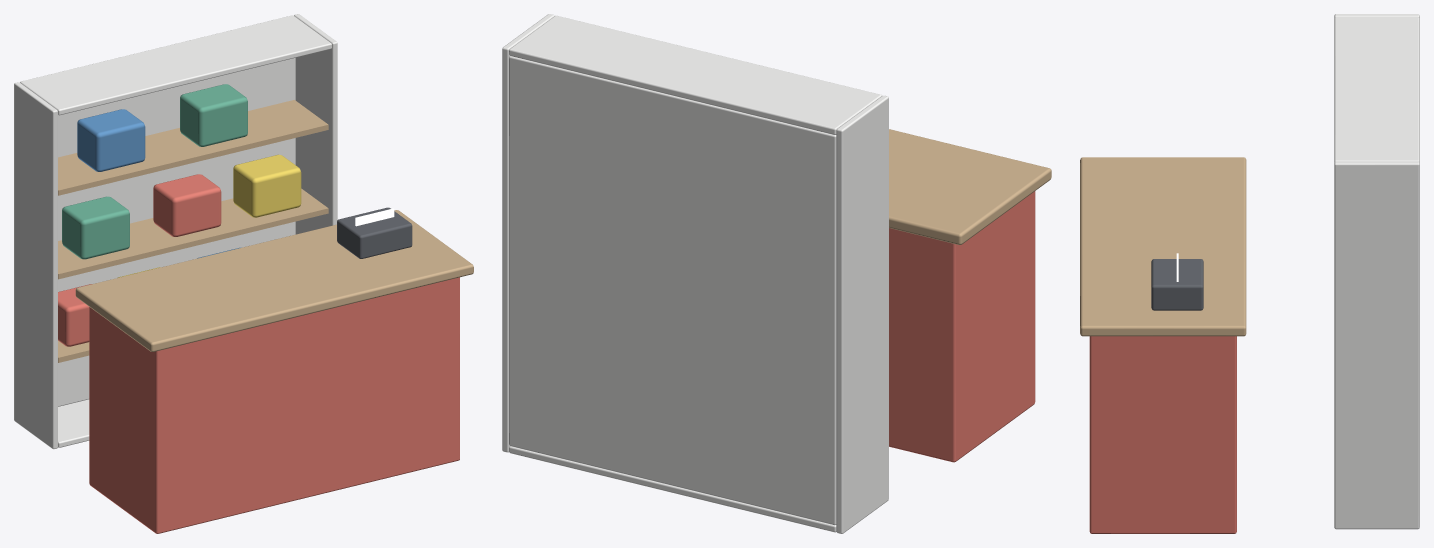
The model's file is art-gallery-and-exhibition-rooms-shop-counter-d42a2ff0.glb.
3 views of the same model, side by side, from view 1: azimuth 30°, elevation 25°; view 2: azimuth 150°, elevation 25°; view 3: azimuth 270°, elevation 25° (orthographic). The views are drawn at different scales.
Visible parts, largest first — view 1: shop-counter; view 2: shop-counter; view 3: shop-counter.
Part boxes in pixels (<box>): shop-counter: <box>14,14,473,533</box>; shop-counter: <box>502,14,1051,533</box>; shop-counter: <box>1080,14,1419,533</box>.
Bounding box in the file's own units: 1.7 × 1.7 × 1.43.
